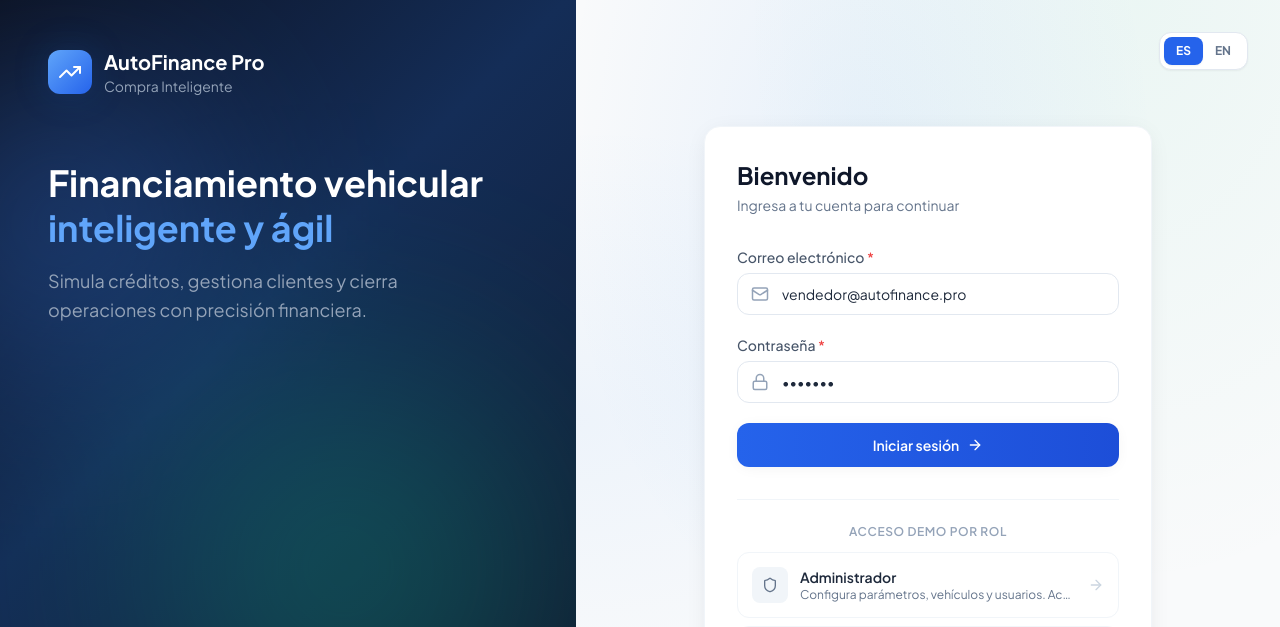
Test: LoginPage › shows validation error for empty submit
Clear the field with placeholder "tu@empresa.com" at (928, 294), box [737, 273, 1119, 315]
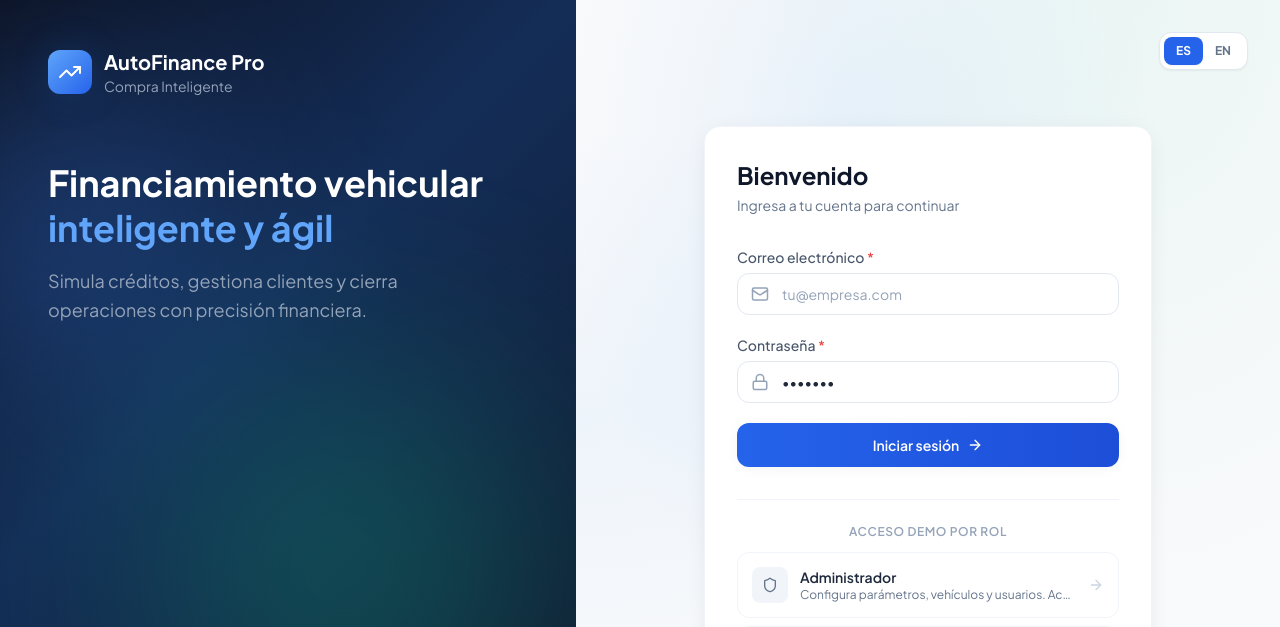
Clear the password field showing "vend123" at (928, 382), box [737, 361, 1119, 403]
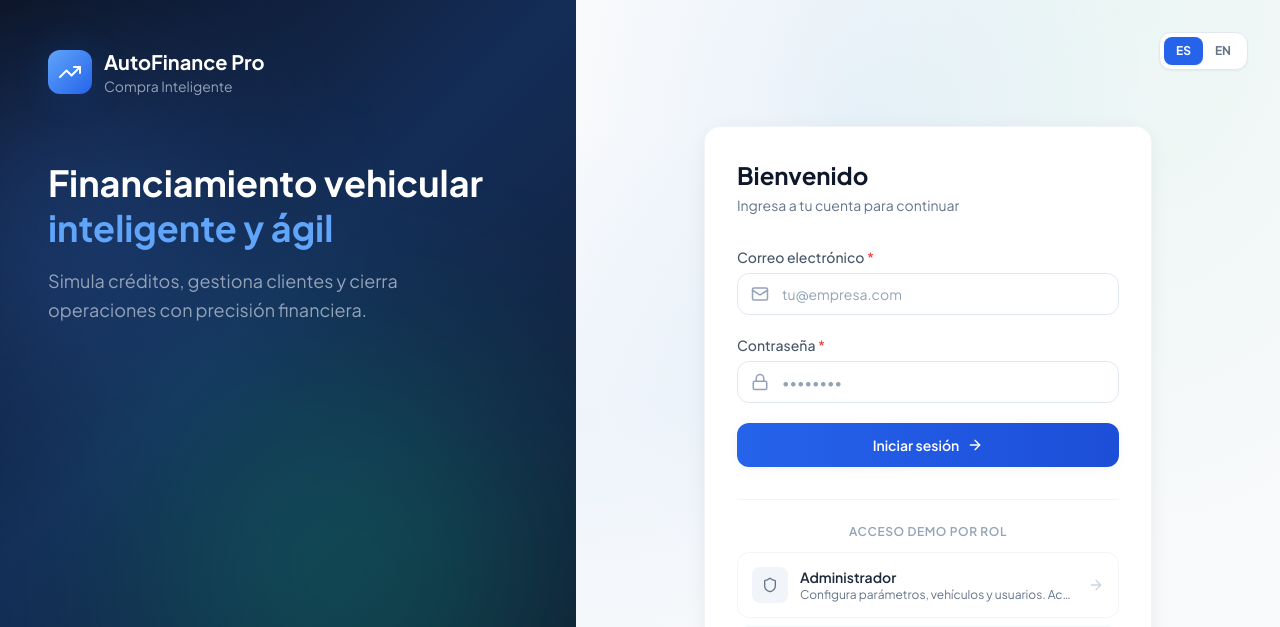
Click the button "Iniciar sesión" at (928, 445), box [737, 423, 1119, 467]
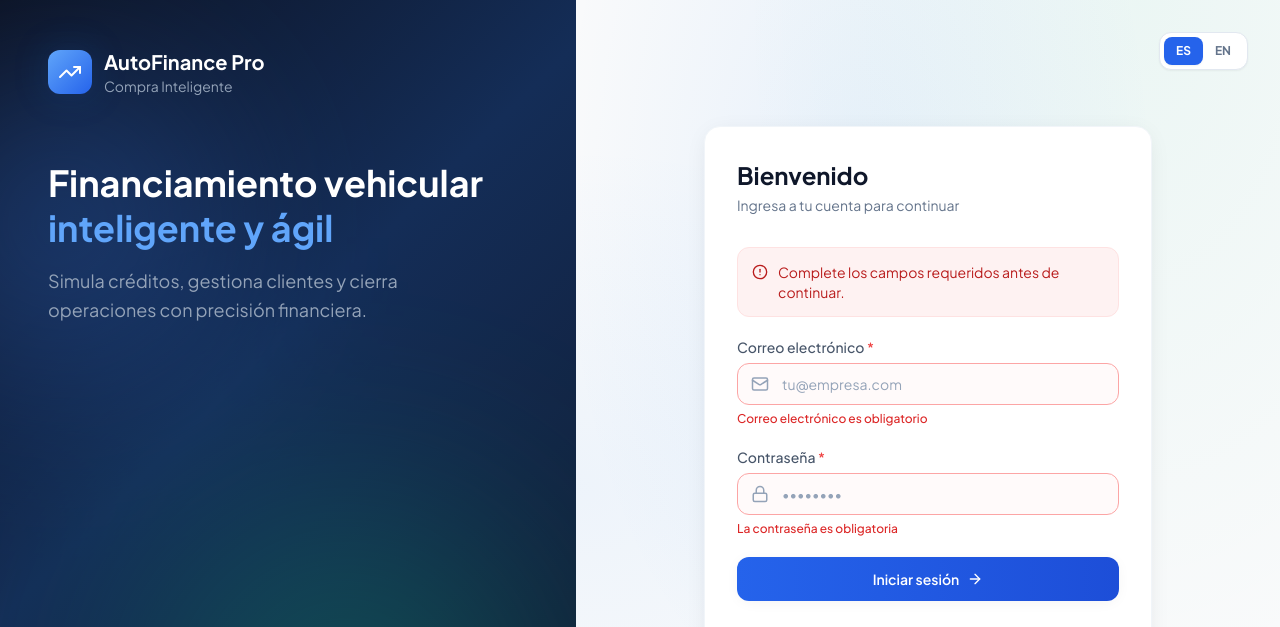
Result: the text "Complete los campos requeridos antes de continuar." is shown at [778, 262, 1104, 302]
